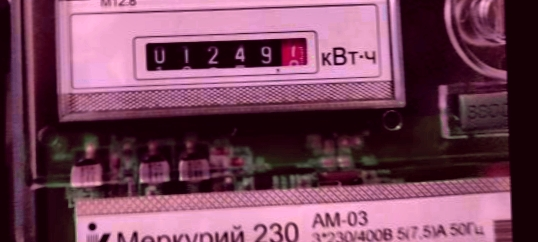0: (151, 41, 166, 62)
1: (178, 40, 191, 62)
2: (203, 40, 220, 63)
4: (232, 40, 246, 60)
7: (286, 35, 300, 55)
9: (258, 41, 272, 62)
screen: (129, 23, 321, 79)
